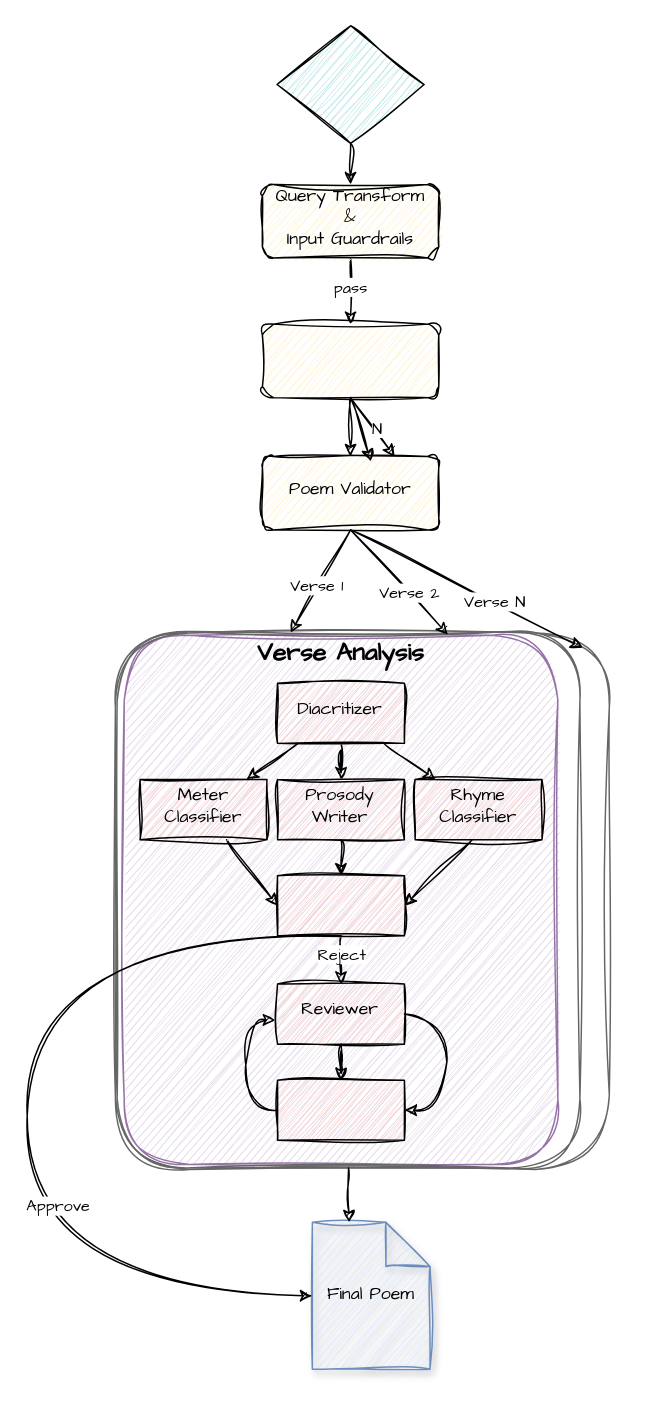
Image size: 663x1405. Some labels were removed from this diagram. The centre of each missing label's shape, as x and y in pixels:
Poem Generator: the point at 350,360
Reviser: the point at 340,1109
Task: the point at 350,83
Validator: the point at 340,905
